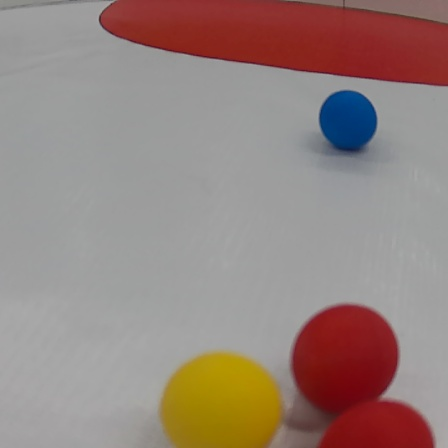blue: (321, 92, 379, 158)
red: (290, 302, 403, 417), (317, 398, 436, 448)
red_base: (100, 0, 448, 89)
yellow: (159, 348, 284, 448)
